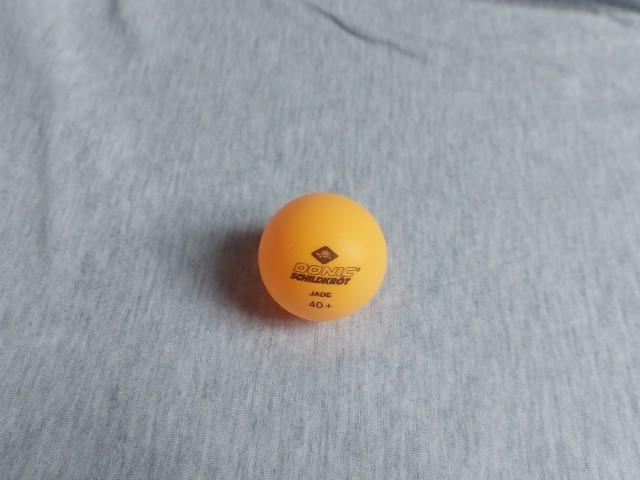oball: (245, 185, 404, 335)
